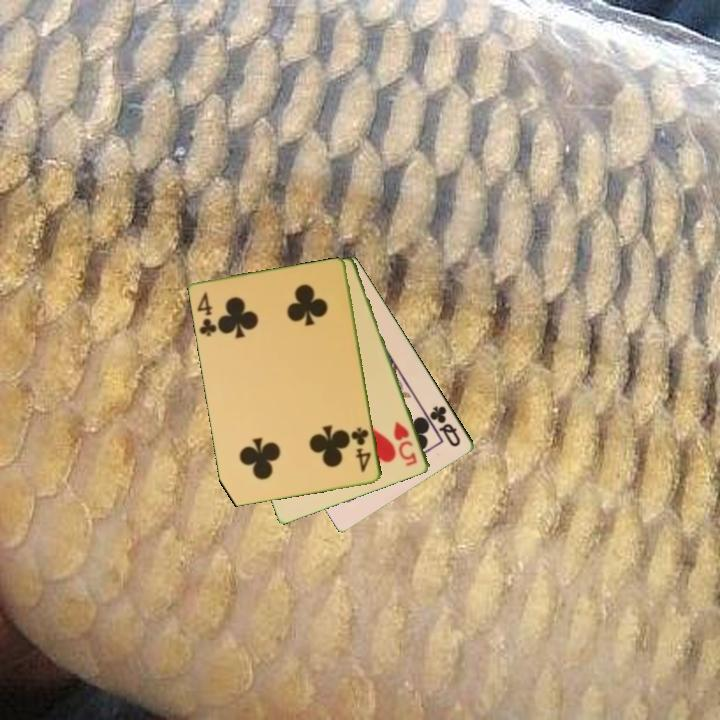4c: (194, 289, 220, 340), (349, 424, 374, 475)
5h: (390, 418, 420, 469)
Qc: (426, 402, 464, 450)
